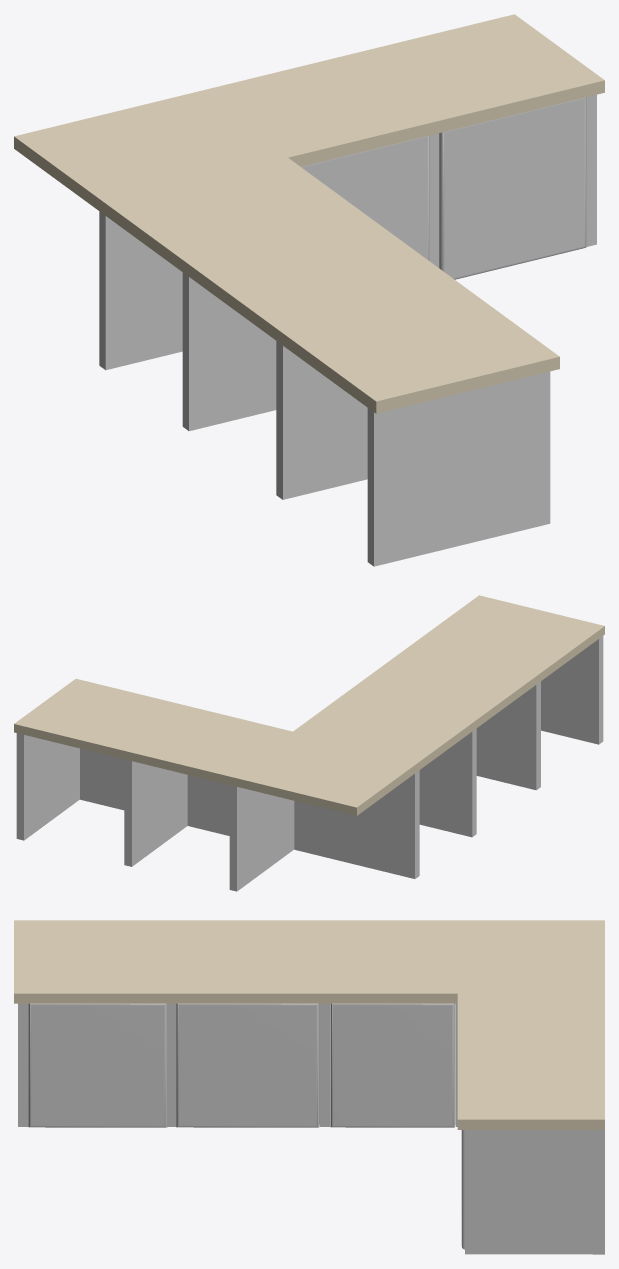
Rendered from counterTop.fbx.
The picture shows the model from 3 angles, top to bottom: view 1: azimuth 30°, elevation 25°; view 2: azimuth 150°, elevation 25°; view 3: azimuth 270°, elevation 25°; orthographic projection. The views are drawn at different scales.
Visible parts, largest first — view 1: countertop, pCube1, pCube8, pCube3, pCube2, pCube4, pCube9, pCube5, pCube6; view 2: countertop, pCube4, pCube7, pCube5, pCube6, pCube2, pCube1, pCube3, pCube8, pCube9; view 3: countertop, pCube11, pCube5, pCube10, pCube12, pCube1, pCube3, pCube2, pCube8.
Part boxes in pixels (x1,y1,x2,y2): countertop: (14, 14, 604, 413); pCube1: (367, 371, 550, 566); pCube8: (439, 97, 586, 279); pCube3: (182, 272, 276, 431); pCube2: (276, 341, 367, 499); pCube4: (99, 211, 182, 370); pCube9: (301, 135, 429, 260); pCube5: (586, 94, 596, 246); pCube6: (429, 133, 439, 267); countertop: (14, 595, 604, 815); pCube4: (294, 770, 419, 878); pCube7: (229, 785, 294, 891); pCube5: (16, 733, 79, 840); pCube6: (124, 759, 187, 866); pCube2: (476, 681, 540, 790); pCube1: (541, 636, 603, 744); pCube3: (419, 728, 476, 837); pCube8: (80, 748, 124, 810); pCube9: (187, 775, 229, 835); countertop: (14, 920, 604, 1129); pCube11: (176, 1003, 319, 1127); pCube5: (465, 1130, 604, 1254); pCube10: (28, 1003, 167, 1127); pCube12: (330, 1003, 455, 1127); pCube1: (18, 1003, 28, 1126); pCube3: (319, 1003, 329, 1126); pCube2: (167, 1003, 175, 1126); pCube8: (461, 1130, 464, 1249).
Size of the model in its own units: 466 by 148 by 583.
